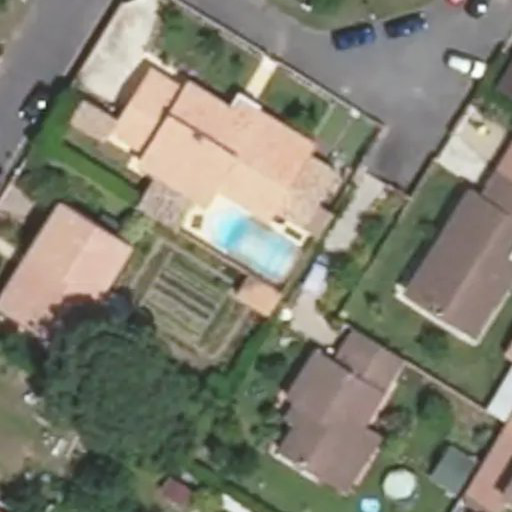pool: (214, 238, 297, 245)
